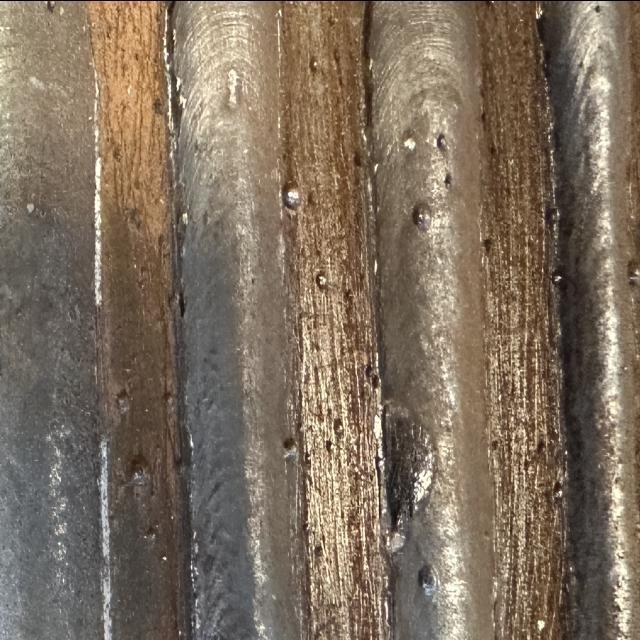Spatters: (418, 563, 438, 597), (129, 453, 150, 485), (281, 180, 301, 210), (411, 202, 431, 232), (626, 258, 640, 287), (551, 263, 566, 290), (365, 363, 379, 388), (115, 390, 130, 413), (282, 437, 298, 458), (436, 132, 448, 153), (552, 480, 563, 502), (162, 390, 175, 407), (332, 417, 343, 437), (315, 272, 326, 288), (172, 456, 182, 473), (535, 0, 544, 18), (309, 55, 318, 73), (45, 0, 56, 12), (132, 468, 142, 480), (444, 172, 451, 188), (325, 438, 332, 452), (162, 555, 167, 560)
